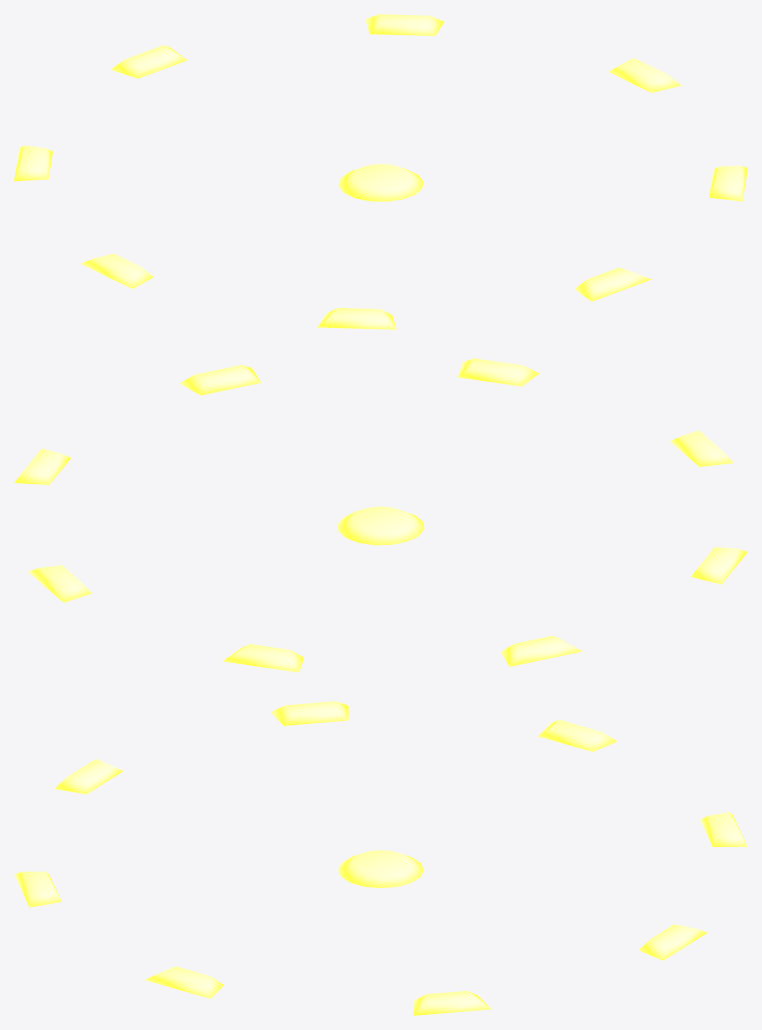
File: EndPlatformLights.fbx
3 views of the same model, one above another, from view 1: azimuth 30°, elevation 25°; view 2: azimuth 150°, elevation 25°; view 3: azimuth 270°, elevation 25° (orthographic). The views are drawn at different scales.
Parts seen in each view (by area): view 1: PlatformLights; view 2: PlatformLights; view 3: PlatformLights.
Part boxes in pixels (left/top/right/bottom): PlatformLights: left=14, top=14, right=747, bottom=329; PlatformLights: left=14, top=358, right=747, bottom=672; PlatformLights: left=14, top=701, right=747, bottom=1015.
Bounding box in the file's own units: 432 × 11.41 × 432.
